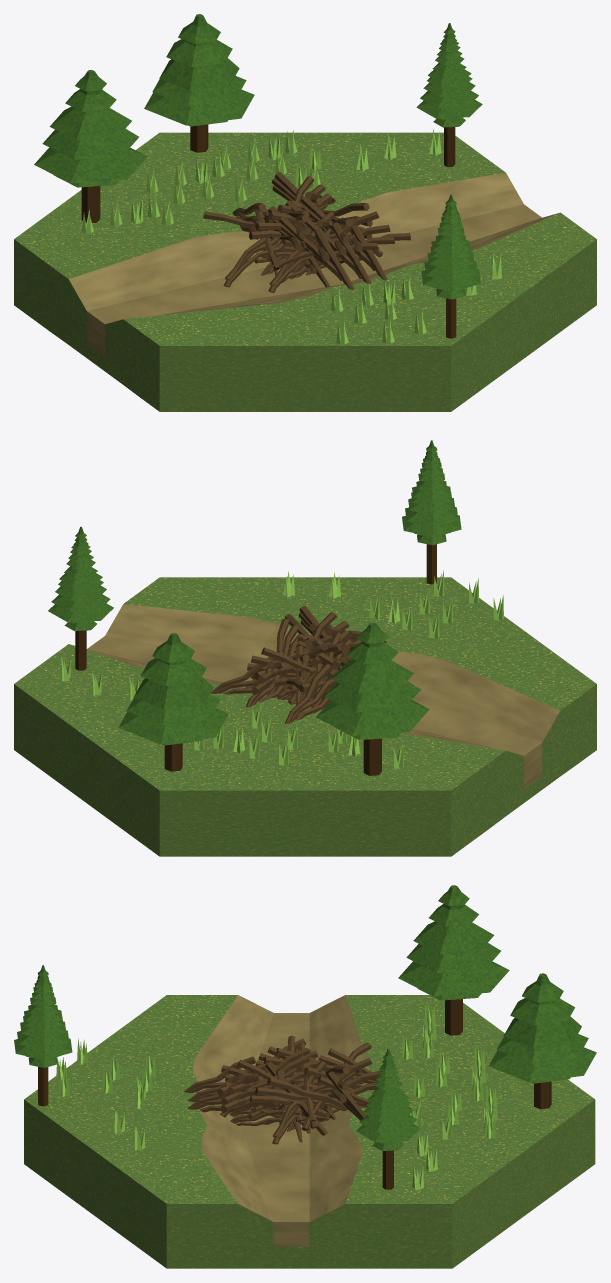
File: Hex_Dam_Test.fbx
3 renders of one model, top to bottom at view 1: azimuth 30°, elevation 25°; view 2: azimuth 150°, elevation 25°; view 3: azimuth 270°, elevation 25°, orthographic. The views are drawn at different scales.
Parts seen in each view (by area): view 1: Damn Hex, Damn Dam.081, Tree Large.004, Tree Tall.003, Tree.004, River Grass.001; view 2: Damn Hex, Tree Large.004, Damn Dam.081, Tree Tall.003, Tree.004, River Grass.001; view 3: Damn Hex, Damn Dam.081, Tree Large.004, Tree Tall.003, Tree.004, River Grass.001.
Part boxes in pixels (<box>): Damn Hex: <box>14,132,596,411</box>; Damn Dam.081: <box>203,172,410,292</box>; Tree Large.004: <box>34,70,147,222</box>; Tree Tall.003: <box>416,23,482,338</box>; Tree.004: <box>144,14,254,152</box>; River Grass.001: <box>81,129,501,345</box>; Damn Hex: <box>14,577,596,856</box>; Tree Large.004: <box>316,622,429,775</box>; Damn Dam.081: <box>211,605,386,723</box>; Tree Tall.003: <box>48,440,461,670</box>; Tree.004: <box>118,633,228,771</box>; River Grass.001: <box>60,570,503,769</box>; Damn Hex: <box>24,995,595,1268</box>; Damn Dam.081: <box>183,1035,380,1144</box>; Tree Large.004: <box>398,885,509,1035</box>; Tree Tall.003: <box>14,965,420,1189</box>; Tree.004: <box>488,973,596,1109</box>; River Grass.001: <box>56,1002,497,1190</box>.
Bounding box in the file's own units: 346 × 162 × 408.
Materials: 10 (10 with a texture image).
